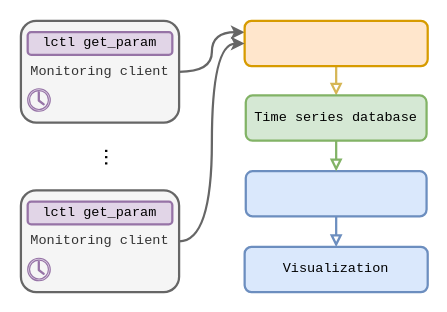
Some shapes in this 447 by 312 pixel diagram are drawn without their labels. The centre of each missing label's shape, as x and y in pixels:
Analysis: the point at 335,193
Ingest server: the point at 335,43
